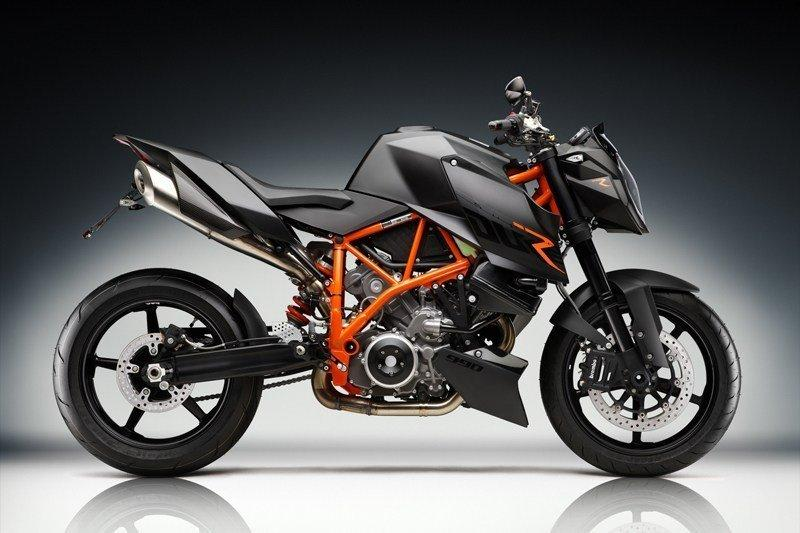motorbike: (54, 72, 741, 478)
